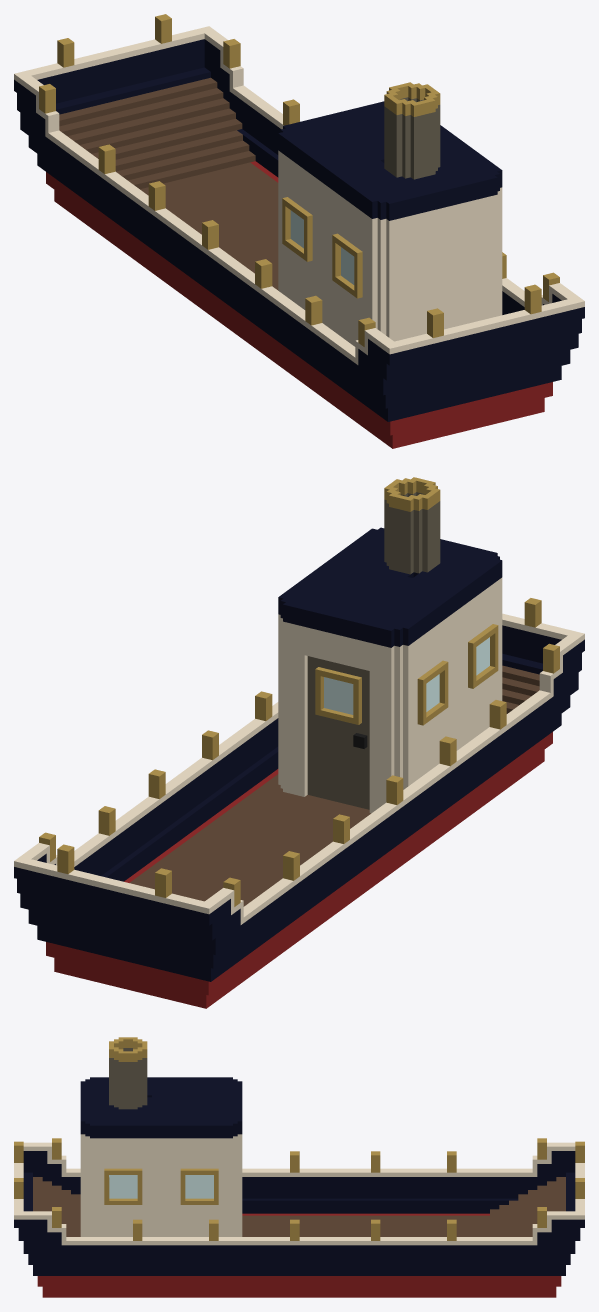
File: Boat_01a.fbx
3 renders of one model, top to bottom at view 1: azimuth 30°, elevation 25°; view 2: azimuth 150°, elevation 25°; view 3: azimuth 270°, elevation 25°, orthographic. The views are drawn at different scales.
Parts seen in each view (by area): view 1: SM_Boat_A1_ML; view 2: SM_Boat_A1_ML; view 3: SM_Boat_A1_ML.
Boxes of the visible parts, left/top/right/bottom form: SM_Boat_A1_ML: left=14, top=14, right=584, bottom=448; SM_Boat_A1_ML: left=14, top=477, right=584, bottom=1008; SM_Boat_A1_ML: left=14, top=1037, right=584, bottom=1297.
Bounding box in the file's own units: 1200 × 360 × 520.
